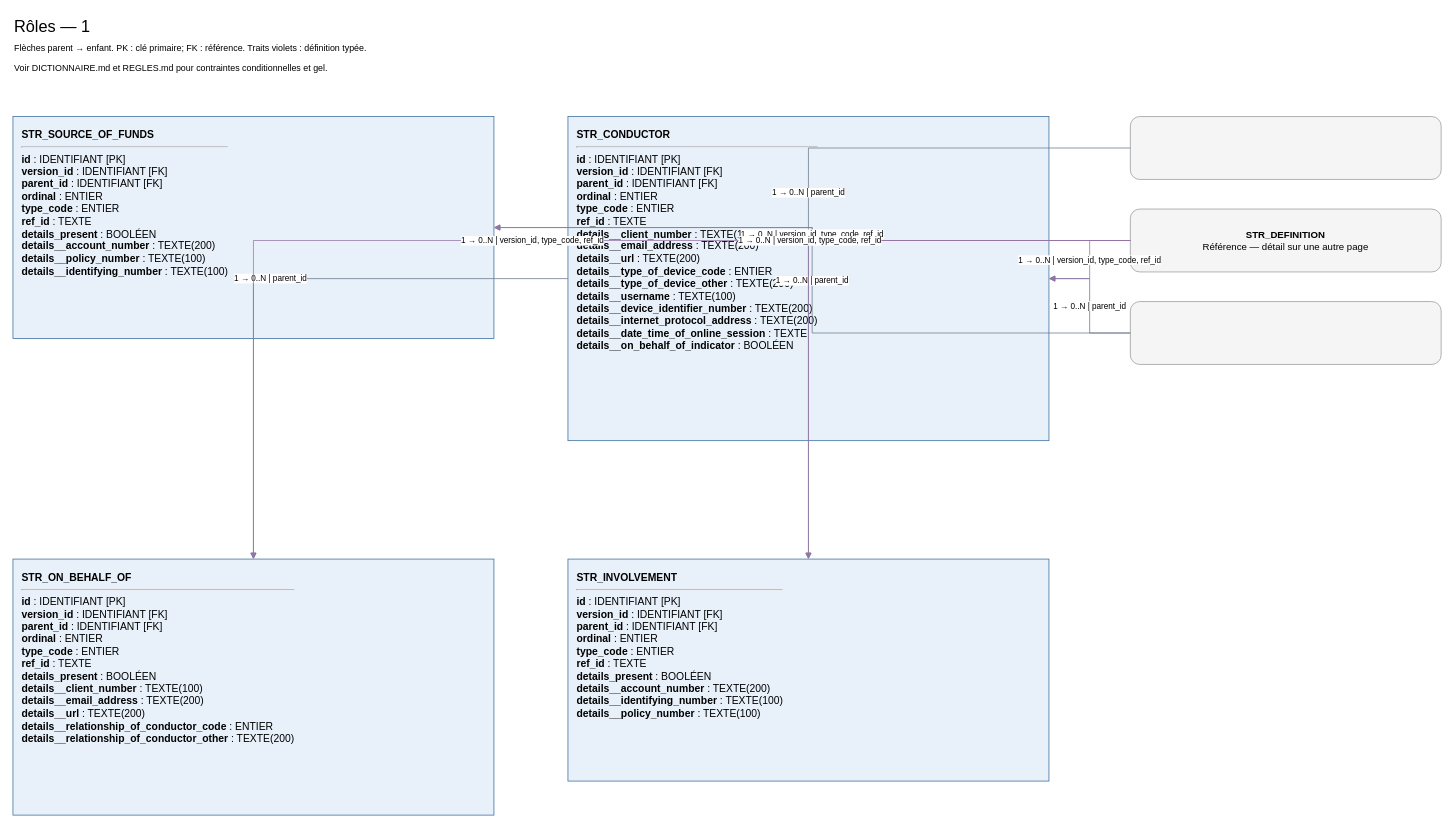
The diagram is 1454 pixels wide and 828 high, and some of its shapes have lost their labels. Each missing label, with the centre of its shape:
"STR_COMPLETING_ACTION Référence — détail sur une autre page" belongs at pixel 1285 147.
"STR_STARTING_ACTION Référence — détail sur une autre page" belongs at pixel 1285 332.
